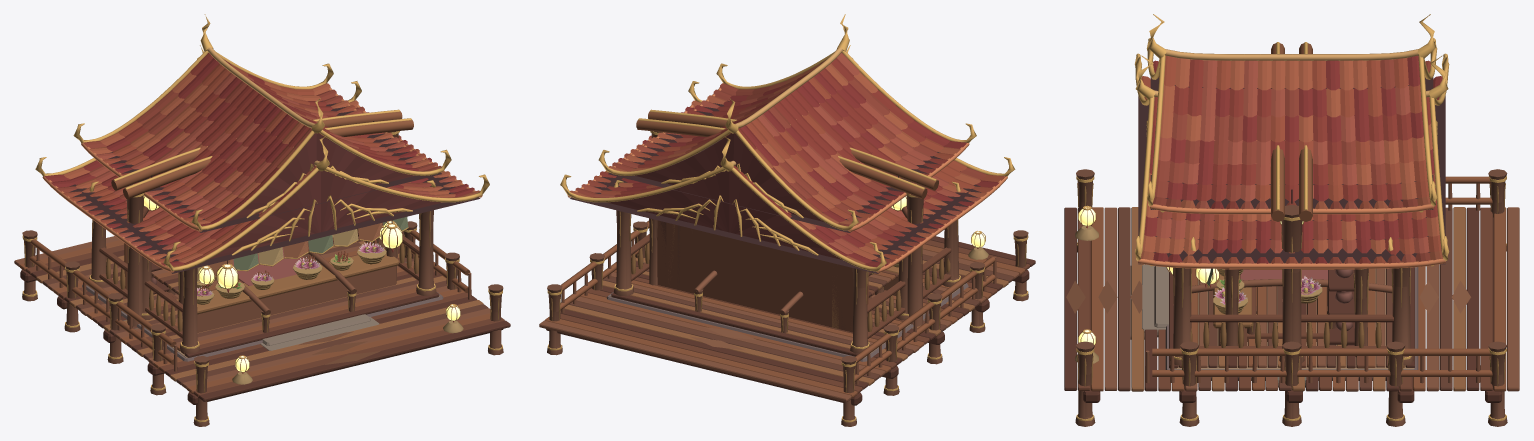
Rendered from architecture.glb.
The picture shows the model from 3 angles, left to right: view 1: azimuth 30°, elevation 25°; view 2: azimuth 150°, elevation 25°; view 3: azimuth 270°, elevation 25°; orthographic projection. The views are drawn at different scales.
Parts seen in each view (by area): view 1: Sala, Pier, FlowerStall, LanternGate, DistantStall, CraftBench, Bridge; view 2: Sala, Pier, DistantStall, LanternGate, FlowerStall, Bridge, CraftBench; view 3: Sala, Pier, LanternGate, FlowerStall, CraftBench, DistantStall, Bridge.
Part boxes in pixels (x1=…): Sala: x1=35, y1=14, x2=489, y2=361; Pier: x1=14, y1=221, x2=510, y2=426; FlowerStall: x1=124, y1=217, x2=408, y2=314; LanternGate: x1=111, y1=109, x2=413, y2=329; DistantStall: x1=89, y1=180, x2=435, y2=332; CraftBench: x1=151, y1=235, x2=362, y2=299; Bridge: x1=238, y1=246, x2=356, y2=332; Sala: x1=560, y1=14, x2=1015, y2=361; Pier: x1=539, y1=220, x2=1035, y2=426; DistantStall: x1=614, y1=180, x2=960, y2=332; LanternGate: x1=636, y1=109, x2=938, y2=328; FlowerStall: x1=659, y1=221, x2=898, y2=330; Bridge: x1=693, y1=270, x2=803, y2=333; CraftBench: x1=868, y1=270, x2=898, y2=303; Sala: x1=1130, y1=14, x2=1449, y2=380; Pier: x1=1064, y1=169, x2=1519, y2=426; LanternGate: x1=1271, y1=42, x2=1312, y2=387; FlowerStall: x1=1195, y1=268, x2=1354, y2=344; CraftBench: x1=1240, y1=269, x2=1335, y2=341; DistantStall: x1=1191, y1=237, x2=1393, y2=356; Bridge: x1=1191, y1=279, x2=1392, y2=293.
Size of the model in its own units: 9.71 by 7.65 by 9.79.
